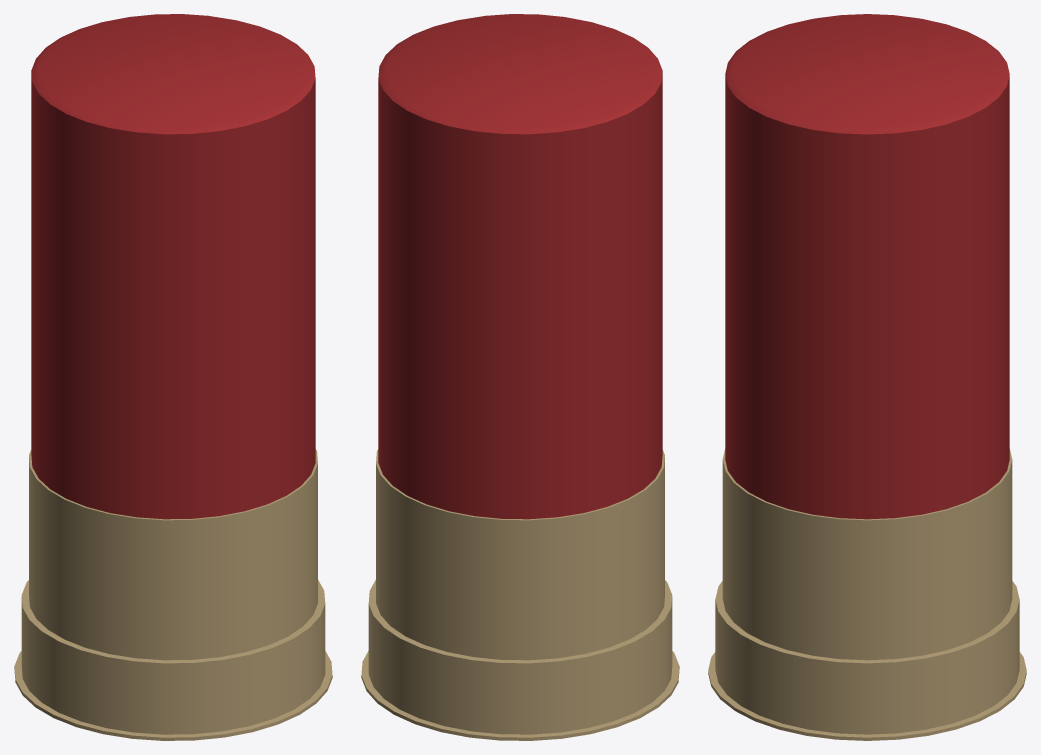
The model's file is shotgun_bullet.glb.
The picture shows the model from 3 angles, left to right: view 1: azimuth 30°, elevation 25°; view 2: azimuth 150°, elevation 25°; view 3: azimuth 270°, elevation 25°; orthographic projection.
Parts seen in each view (by area): view 1: Circle; view 2: Circle; view 3: Circle.
Boxes of the visible parts, <box> form: Circle: <box>14,14,332,740</box>; Circle: <box>361,14,679,740</box>; Circle: <box>708,14,1026,740</box>.
Size of the model in its own units: 0.7055 by 1.47 by 0.7055.
